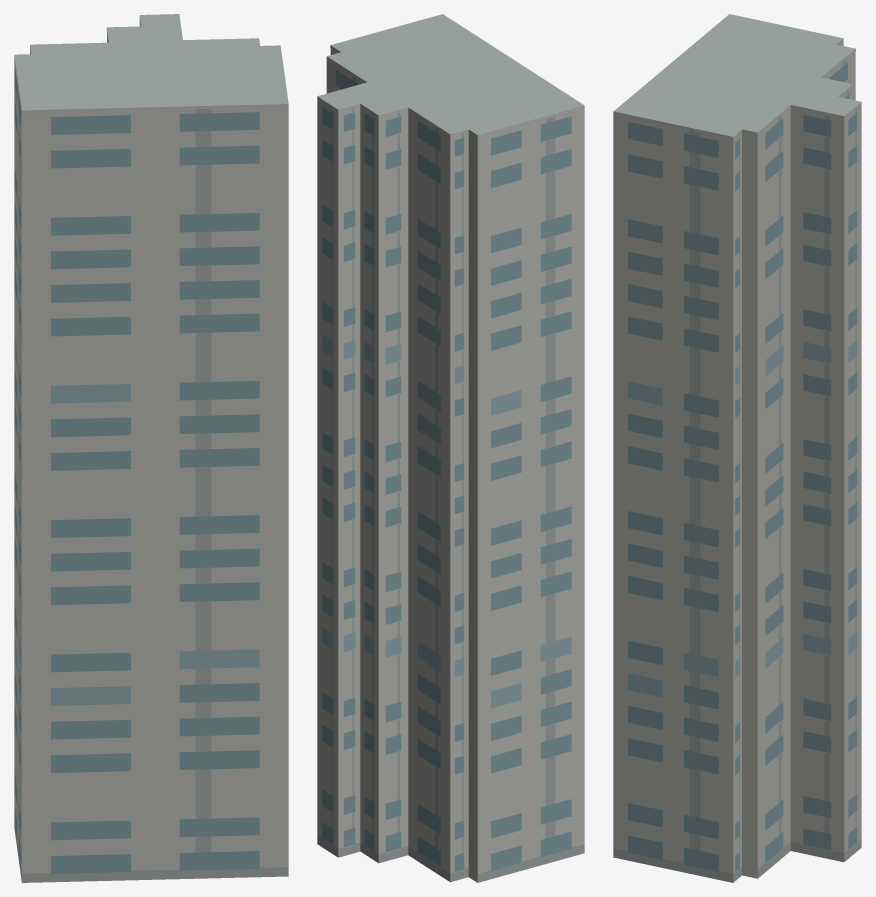
File: residential-6f98747e-7857-43f7-9599-48f6ecaafd1f.glb
3 renders of one model, left to right at view 1: azimuth 30°, elevation 25°; view 2: azimuth 150°, elevation 25°; view 3: azimuth 270°, elevation 25°, orthographic. The views are drawn at different scales.
Parts seen in each view (by area): view 1: residential-6f98747e-7857-43f7-9599-48f6ecaafd1f.tmp; view 2: residential-6f98747e-7857-43f7-9599-48f6ecaafd1f.tmp; view 3: residential-6f98747e-7857-43f7-9599-48f6ecaafd1f.tmp.
Boxes of the visible parts, x1=… form: residential-6f98747e-7857-43f7-9599-48f6ecaafd1f.tmp: x1=14, y1=14, x2=288, y2=882; residential-6f98747e-7857-43f7-9599-48f6ecaafd1f.tmp: x1=317, y1=14, x2=584, y2=882; residential-6f98747e-7857-43f7-9599-48f6ecaafd1f.tmp: x1=613, y1=14, x2=861, y2=882.
Bounding box in the file's own units: 22.61 × 64 × 19.29.
